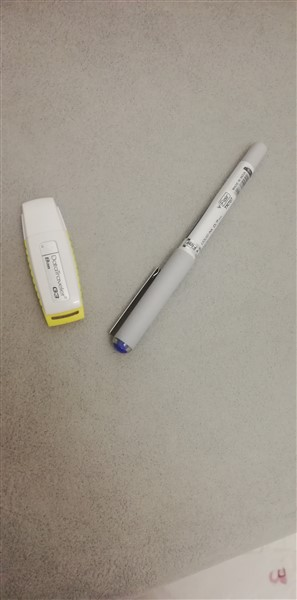flash disk: (20, 192, 88, 334)
pilot kalem: (107, 139, 272, 362)
